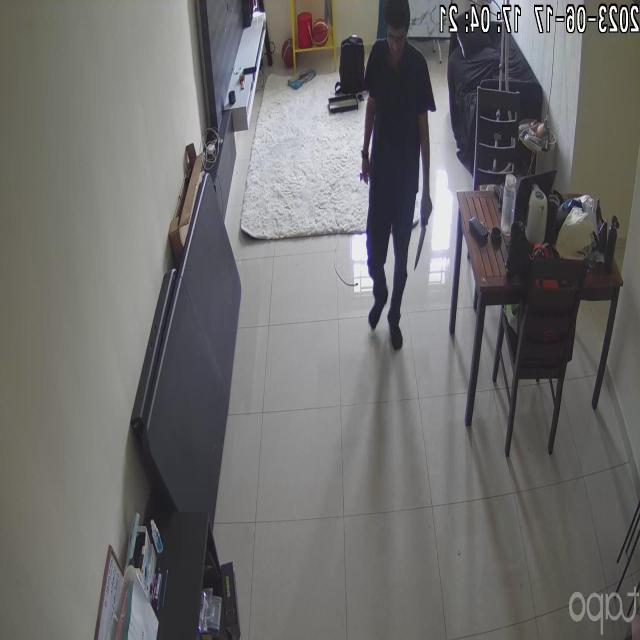Knife: (411, 219, 429, 276)
